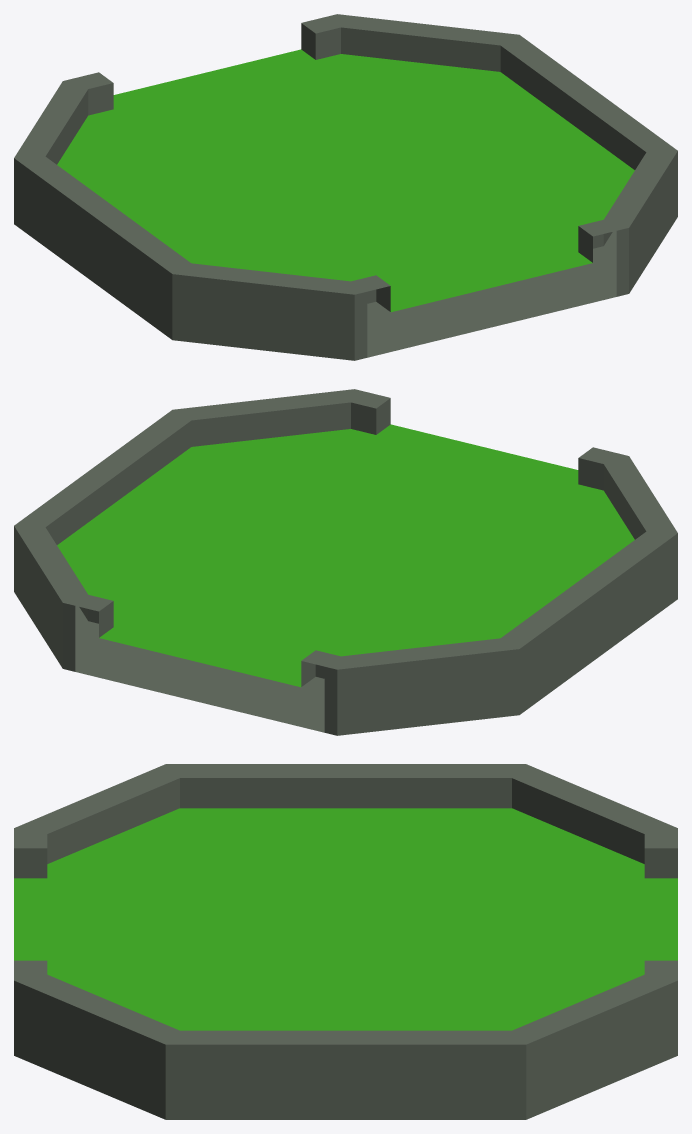
The model's file is OctStraight.fbx.
The picture shows the model from 3 angles, top to bottom: view 1: azimuth 30°, elevation 25°; view 2: azimuth 150°, elevation 25°; view 3: azimuth 270°, elevation 25°; orthographic projection. The views are drawn at different scales.
Visible parts, largest first — view 1: Plane.013; view 2: Plane.013; view 3: Plane.013.
Boxes of the visible parts, box(x1,y1,x2,y2) form: Plane.013: box(14, 14, 677, 360); Plane.013: box(14, 389, 677, 735); Plane.013: box(14, 764, 677, 1119).
Bounding box in the file's own units: 400 × 50 × 400.
